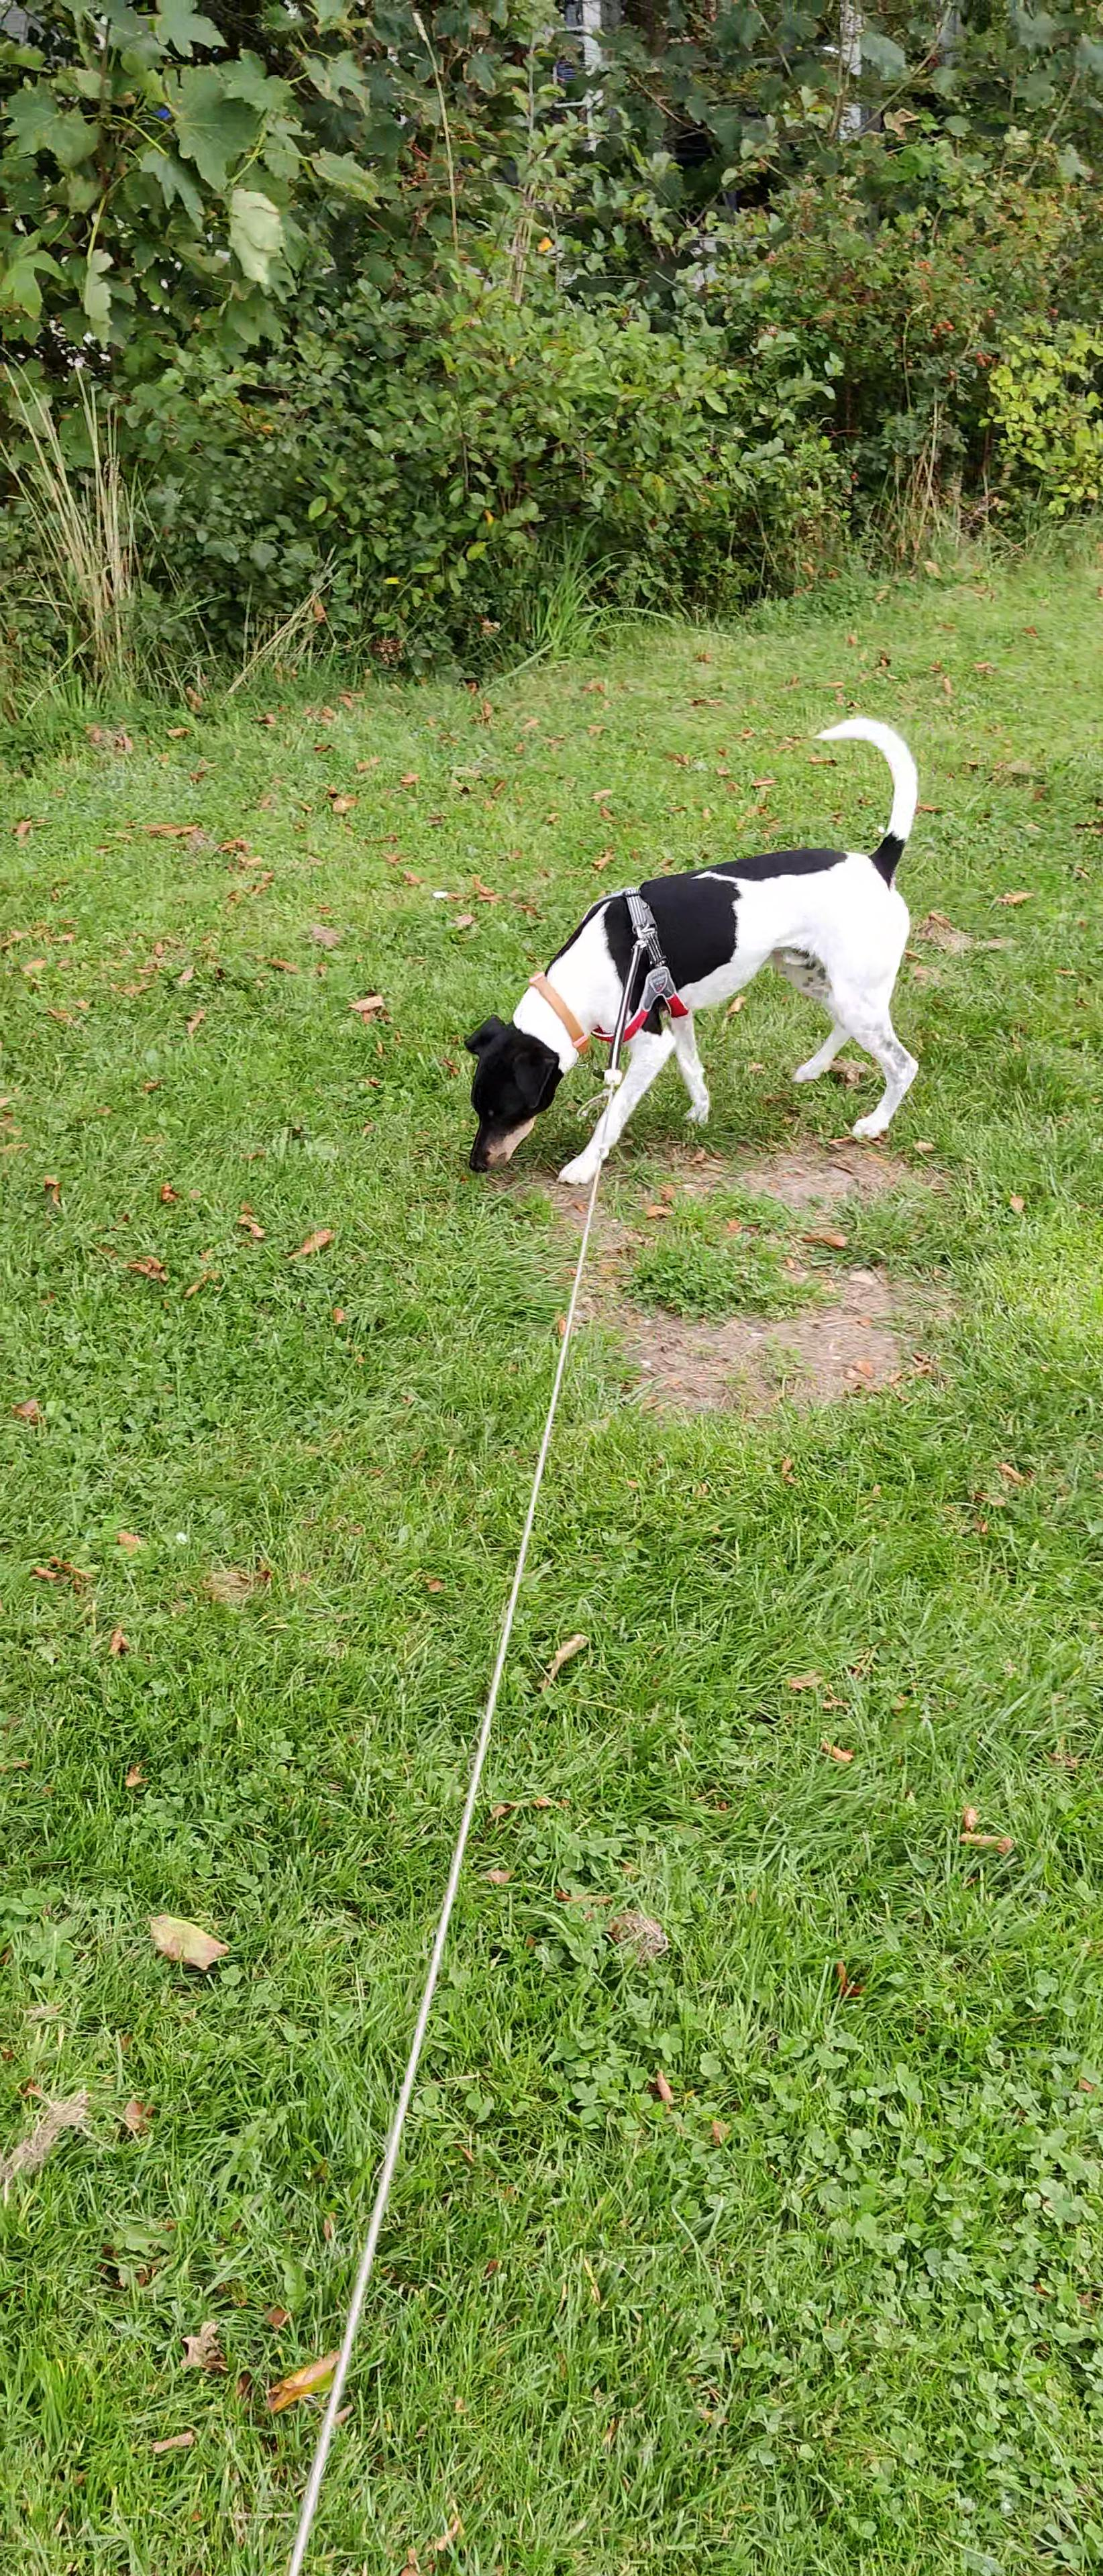Dog: (460, 716, 940, 1178)
